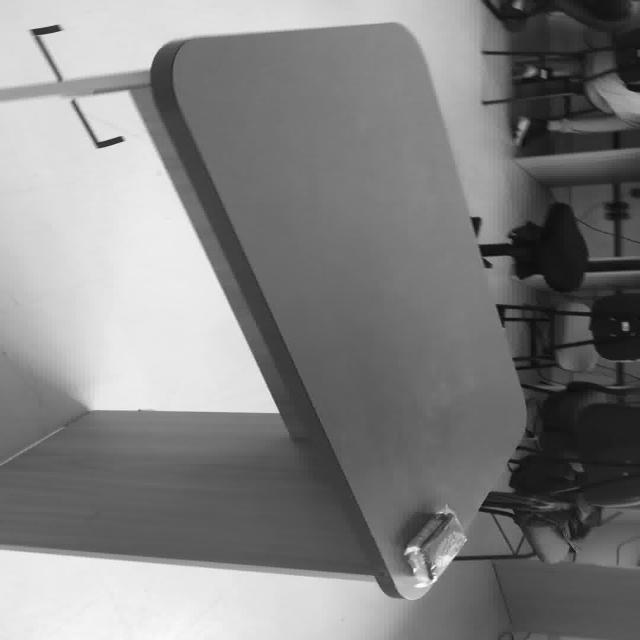sponge: (148, 21, 530, 598), (402, 504, 467, 585), (550, 300, 598, 373)
